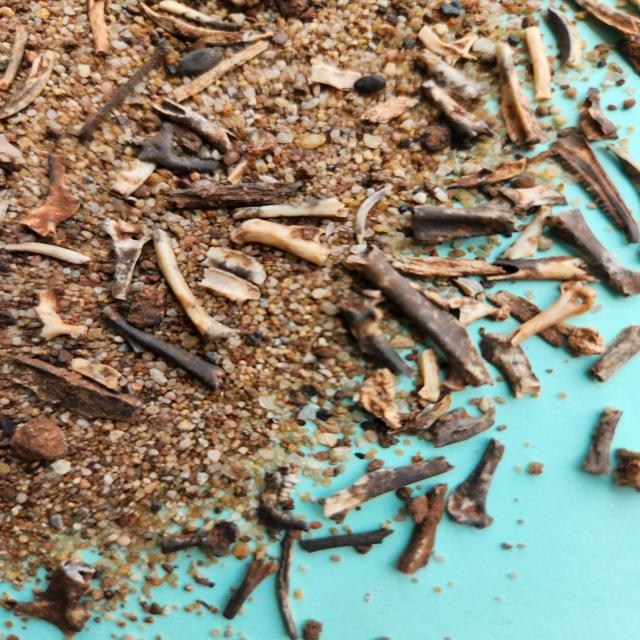fossil: (338, 244, 498, 388), (96, 303, 231, 392), (150, 223, 244, 348), (68, 38, 174, 144), (548, 129, 640, 248), (6, 349, 145, 427), (319, 453, 459, 526), (543, 204, 640, 300), (475, 40, 555, 149), (331, 289, 418, 382), (12, 553, 99, 640), (442, 435, 516, 532), (16, 149, 86, 245), (135, 1, 277, 48), (503, 278, 599, 346), (172, 38, 273, 102), (388, 480, 453, 579), (407, 191, 517, 248), (486, 289, 579, 351), (225, 218, 338, 268), (148, 95, 242, 155), (421, 77, 496, 152), (162, 177, 306, 214), (128, 121, 223, 175), (476, 329, 544, 401), (100, 215, 155, 304), (255, 470, 319, 544), (411, 47, 492, 103), (221, 547, 279, 624), (0, 48, 57, 120), (150, 519, 246, 560), (0, 412, 74, 463), (387, 251, 516, 280), (482, 253, 602, 284), (26, 286, 90, 344), (494, 202, 554, 263), (276, 530, 309, 640), (350, 364, 404, 430), (224, 125, 281, 187), (578, 404, 627, 476), (583, 323, 640, 384), (441, 154, 531, 192), (226, 196, 351, 223), (383, 394, 455, 438), (429, 403, 499, 448), (197, 243, 270, 286), (193, 265, 265, 308), (296, 524, 398, 554), (575, 84, 624, 144), (353, 182, 397, 248), (520, 24, 556, 104), (0, 17, 37, 94), (155, 0, 244, 32), (0, 240, 94, 270), (544, 5, 584, 74), (67, 354, 131, 395), (573, 0, 640, 38), (109, 152, 162, 199), (126, 279, 169, 332), (448, 295, 514, 329), (78, 0, 115, 60), (602, 139, 640, 193), (398, 275, 454, 311), (504, 182, 569, 213), (357, 95, 421, 126), (408, 344, 442, 402), (306, 62, 368, 92), (172, 45, 225, 78), (416, 23, 464, 58), (146, 27, 182, 72), (506, 174, 544, 216), (609, 442, 640, 492), (564, 323, 607, 359), (442, 31, 482, 68), (435, 355, 468, 394), (452, 273, 490, 302), (402, 492, 434, 525), (0, 185, 21, 234), (420, 124, 456, 152), (615, 36, 640, 74), (0, 137, 27, 172), (302, 617, 332, 640), (182, 36, 208, 57)
